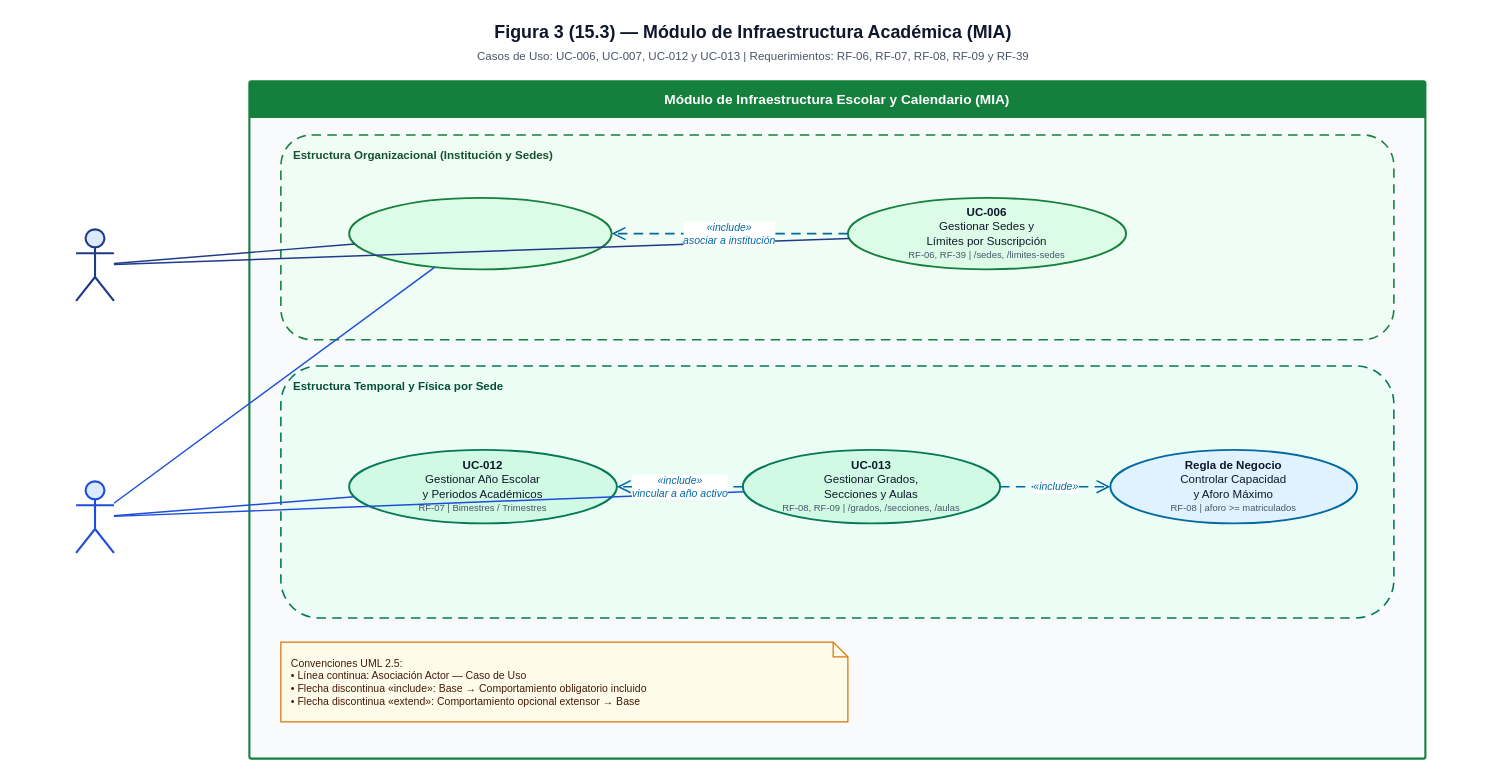
Image size: 1506x777. Some labels were removed from this diagram. Here are the shapes that lost their labels. From the top down, the centre of each, then its label:
At point (480, 233): "UC-007 Gestionar Datos de Institución Educativa RF-06 | RUC, Razón Social, Logo".
At point (94, 264): "SuperAdmin".
At point (94, 516): "Administrador (Sede)".
